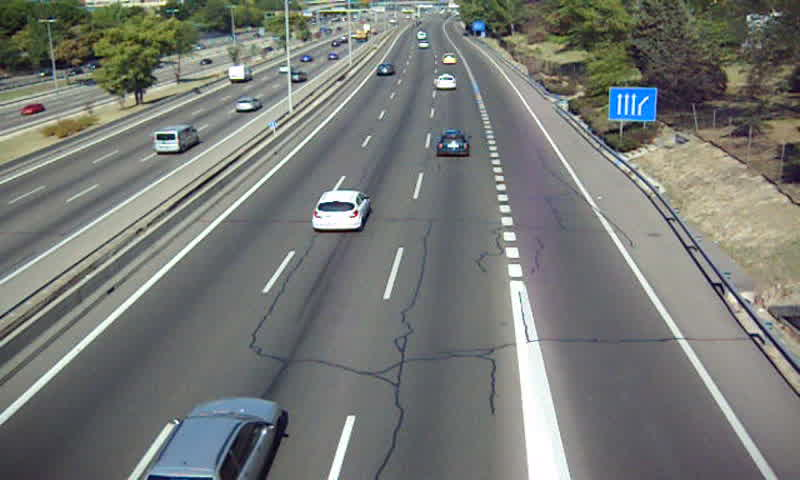car: (150, 397, 282, 480), (314, 190, 372, 230), (437, 128, 471, 156), (434, 74, 458, 92), (373, 65, 394, 78)
